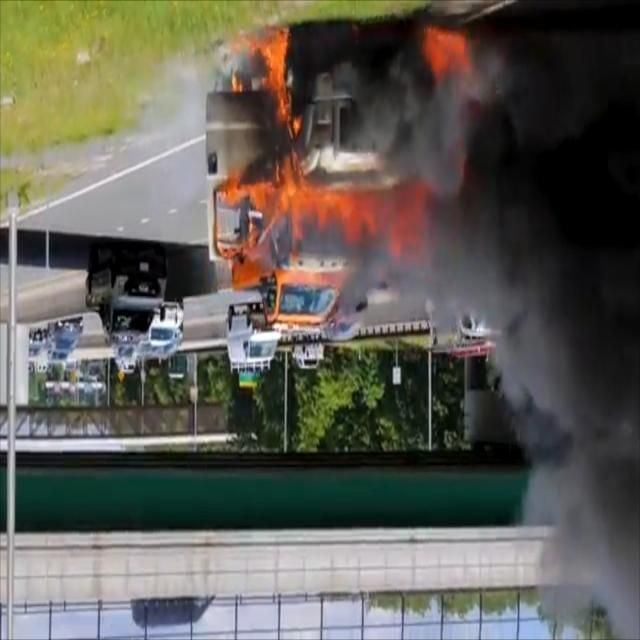fire: (215, 18, 477, 264)
